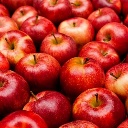apple: (15, 52, 61, 95)
